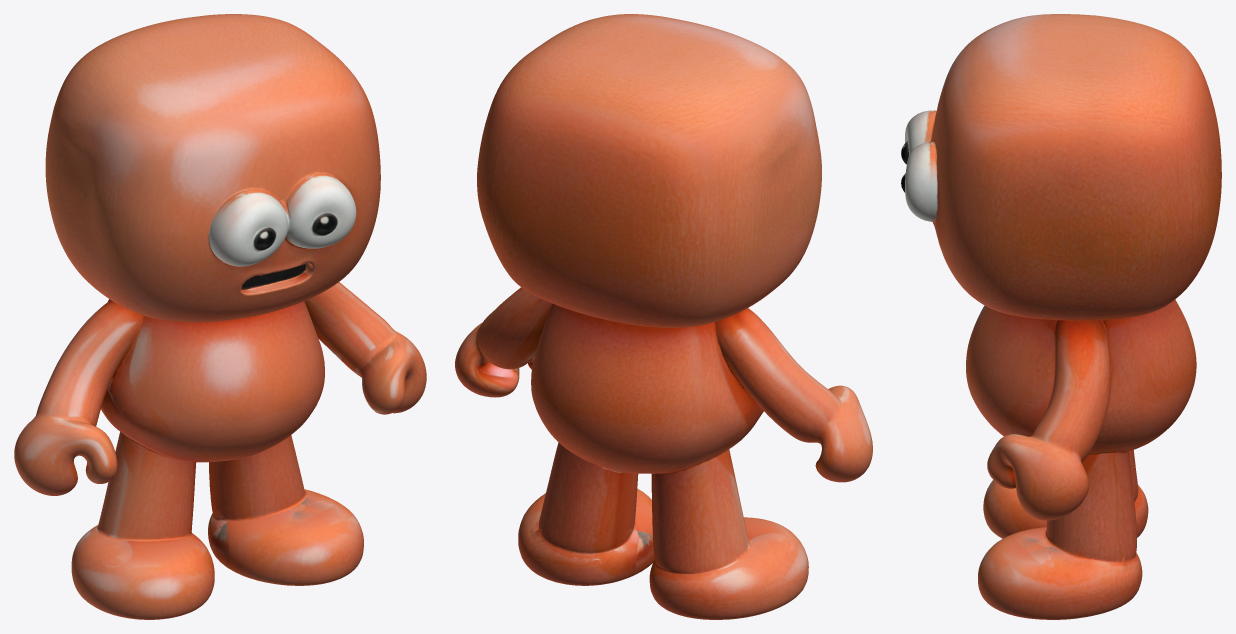
Rendered from Char_Orange.obj.
3 renders of one model, left to right at view 1: azimuth 30°, elevation 25°; view 2: azimuth 150°, elevation 25°; view 3: azimuth 270°, elevation 25°, orthographic. The views are drawn at different scales.
Parts seen in each view (by area): view 1: Char_Orange; view 2: Char_Orange; view 3: Char_Orange.
Boxes of the visible parts, bbox=[...] form: Char_Orange: bbox=[14, 14, 426, 619]; Char_Orange: bbox=[455, 14, 872, 619]; Char_Orange: bbox=[901, 14, 1221, 619].
Bounding box in the file's own units: 0.7995 × 0.9999 × 0.5614.
1 material, 1 textured.
